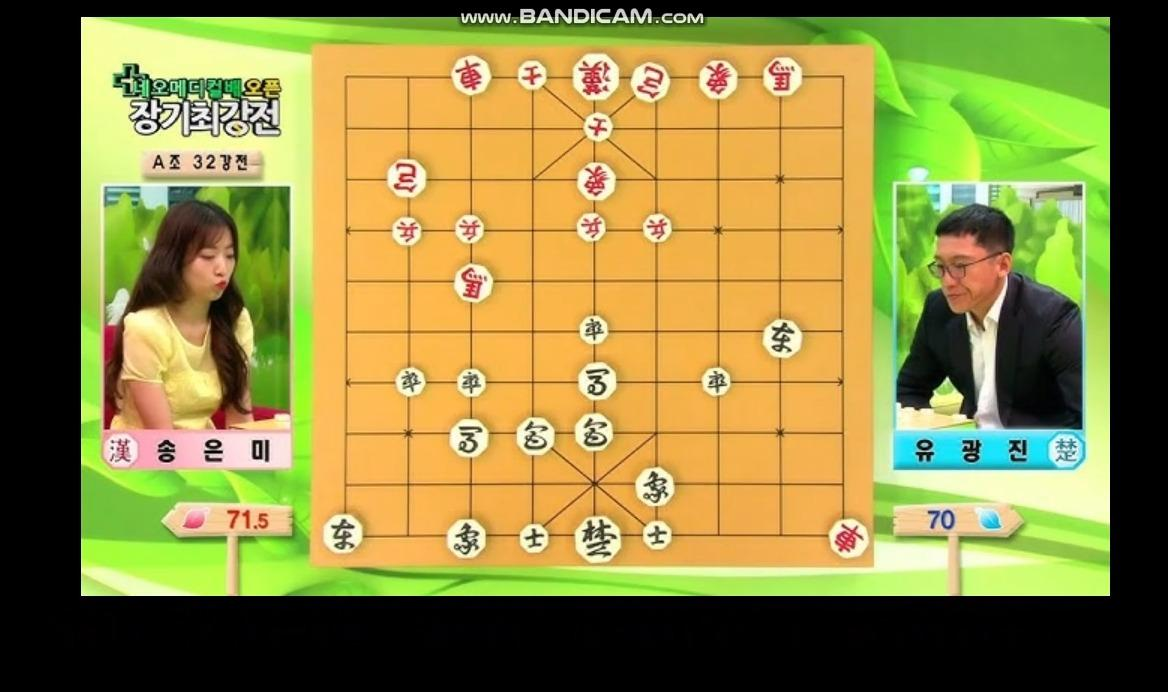cha_green: (761, 320, 803, 359), (323, 515, 363, 552)
cha_red: (826, 518, 870, 558), (451, 54, 493, 95)
jol_green: (699, 368, 734, 396), (577, 316, 612, 342), (393, 368, 426, 395), (455, 370, 489, 395)
jol_red: (575, 214, 608, 241), (454, 216, 487, 242), (390, 218, 423, 244), (642, 215, 674, 241)
ma_green: (448, 421, 491, 457), (576, 364, 619, 398)
ma_red: (453, 265, 495, 302), (762, 58, 804, 94)
po_green: (514, 416, 557, 454), (572, 413, 614, 449)
po_red: (628, 63, 673, 99), (385, 161, 428, 198)
sa_green: (517, 524, 552, 551), (642, 522, 675, 548)
sa_red: (516, 60, 551, 90), (583, 114, 616, 143)
sang_green: (633, 468, 675, 507), (445, 519, 488, 556)
sang_red: (698, 61, 740, 97), (576, 164, 617, 199)
wang_green: (574, 517, 622, 559)
wang_red: (573, 55, 619, 99)
